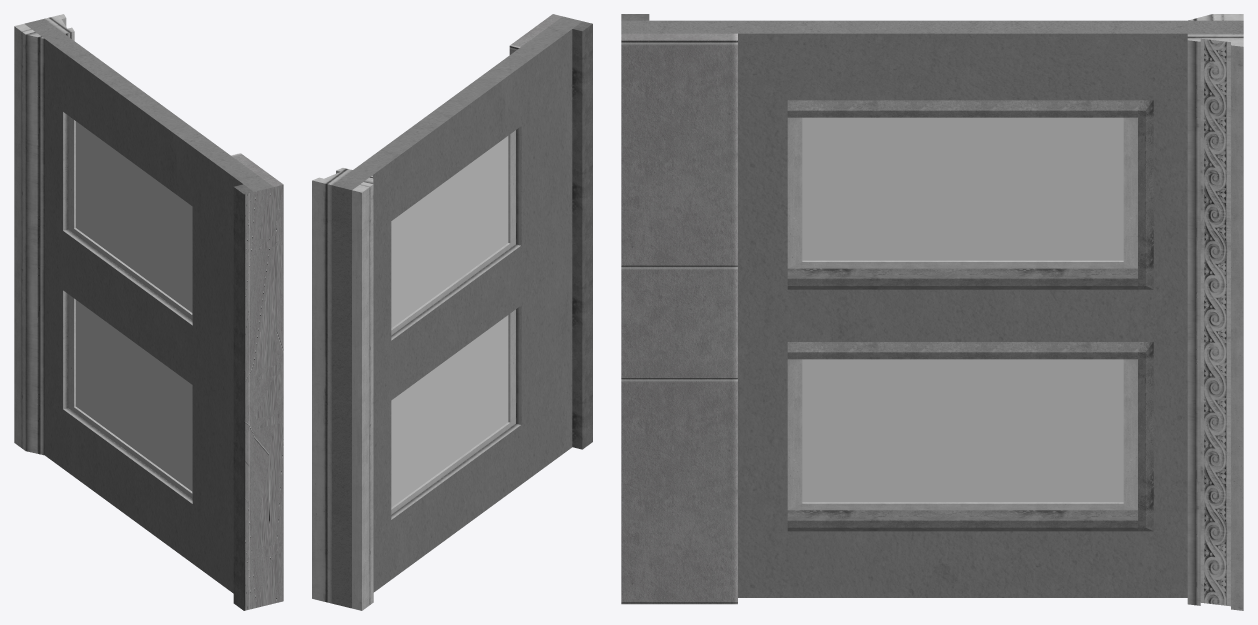
The model's file is A_wall_ 4m_two_small_windows.fbx.
3 views of the same model, side by side, from view 1: azimuth 30°, elevation 25°; view 2: azimuth 150°, elevation 25°; view 3: azimuth 270°, elevation 25° (orthographic). The views are drawn at different scales.
Parts seen in each view (by area): view 1: A_wall__4m_two_small_windows, A_glass_005, A_glass_006; view 2: A_wall__4m_two_small_windows, A_glass_006, A_glass_005; view 3: A_wall__4m_two_small_windows, A_glass_006, A_glass_005.
Part boxes in pixels (box(x1,y1,x2,y2)): A_wall__4m_two_small_windows: box(14, 14, 283, 610); A_glass_005: box(76, 121, 192, 312); A_glass_006: box(76, 300, 192, 491); A_wall__4m_two_small_windows: box(312, 14, 592, 610); A_glass_006: box(391, 315, 508, 507); A_glass_005: box(391, 136, 508, 327); A_wall__4m_two_small_windows: box(621, 14, 1243, 610); A_glass_006: box(802, 359, 1123, 502); A_glass_005: box(802, 117, 1123, 260).
Bounding box in the file's own units: 0.5 × 4 × 4.
